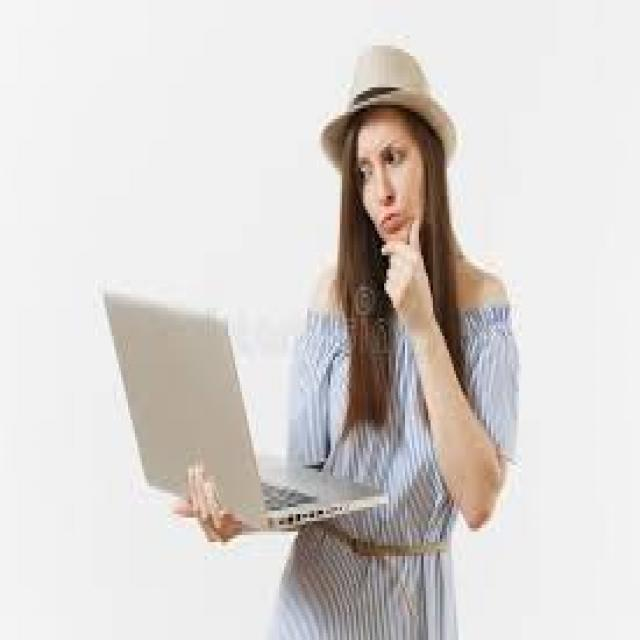hat: (319, 37, 466, 175)
